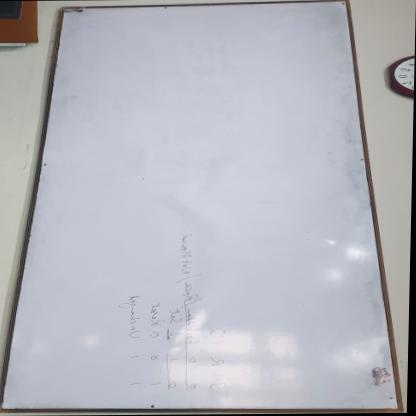Handwritten text: (202, 324, 233, 392), (118, 287, 147, 341), (174, 229, 199, 275), (181, 309, 204, 347), (145, 298, 168, 327), (177, 281, 203, 300), (167, 304, 186, 327)
Whiteboard: (0, 0, 407, 414)
